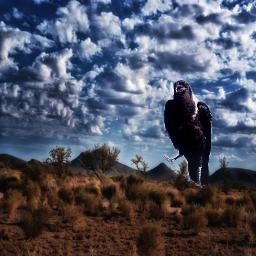Crow: (163, 79, 213, 188)
